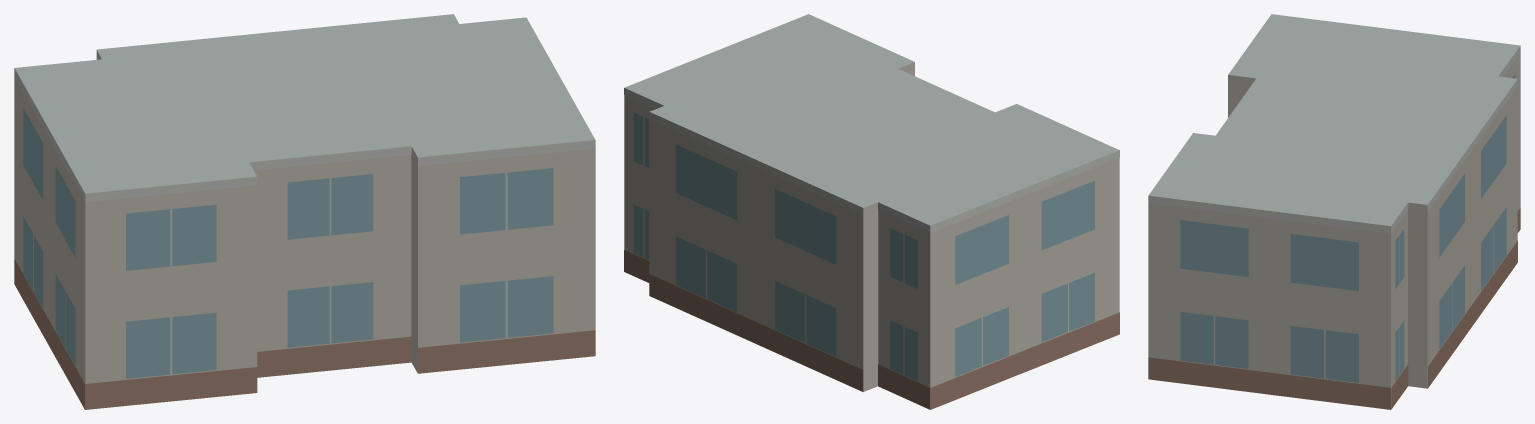
The model's file is survey-upis-32811397.glb.
3 renders of one model, left to right at view 1: azimuth 30°, elevation 25°; view 2: azimuth 150°, elevation 25°; view 3: azimuth 270°, elevation 25°, orthographic. The views are drawn at different scales.
Parts seen in each view (by area): view 1: survey-upis-32811397.tmp; view 2: survey-upis-32811397.tmp; view 3: survey-upis-32811397.tmp.
Boxes of the visible parts, x1=… form: survey-upis-32811397.tmp: x1=14, y1=14, x2=595, y2=409; survey-upis-32811397.tmp: x1=624, y1=14, x2=1119, y2=409; survey-upis-32811397.tmp: x1=1148, y1=14, x2=1520, y2=409.
Bounding box in the file's own units: 15.12 × 6.1 × 11.21.
